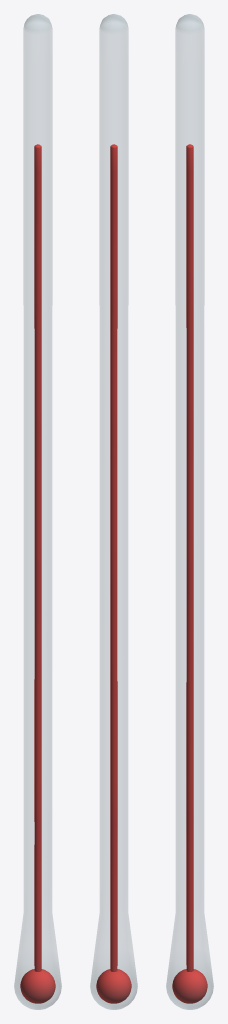
The model's file is thermometer.glb.
3 renders of one model, left to right at view 1: azimuth 30°, elevation 25°; view 2: azimuth 150°, elevation 25°; view 3: azimuth 330°, elevation 25°, orthographic.
Parts seen in each view (by area): view 1: thermometer-glass, thermometer-column; view 2: thermometer-glass, thermometer-column; view 3: thermometer-glass, thermometer-column.
Part boxes in pixels (box(x1,y1,x2,y2)): thermometer-glass: box(14, 14, 61, 1009); thermometer-column: box(20, 144, 55, 1003); thermometer-glass: box(90, 14, 137, 1009); thermometer-column: box(96, 144, 131, 1003); thermometer-glass: box(166, 14, 213, 1009); thermometer-column: box(172, 144, 207, 1003).
Size of what is drawn, in the model's own units: 1 by 22.91 by 1.
